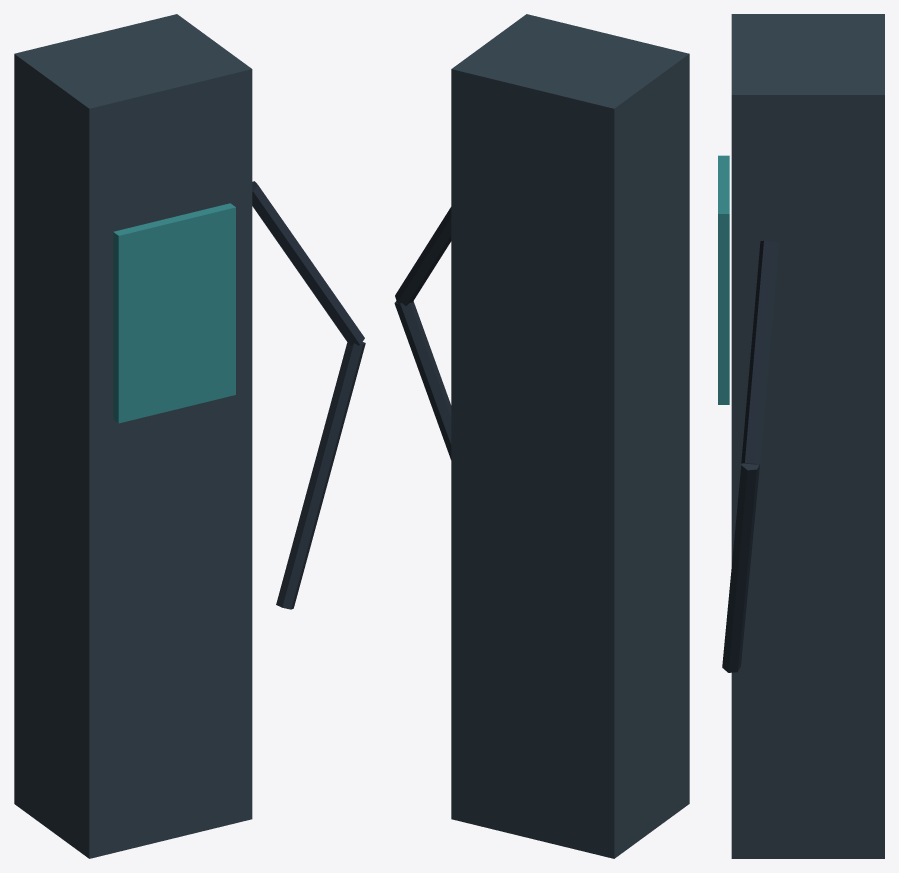
Rendered from EVCharger.fbx.
3 renders of one model, left to right at view 1: azimuth 30°, elevation 25°; view 2: azimuth 150°, elevation 25°; view 3: azimuth 270°, elevation 25°, orthographic.
Parts seen in each view (by area): view 1: EVCharger; view 2: EVCharger; view 3: EVCharger.
Part boxes in pixels (bbox=[...]): EVCharger: bbox=[14, 14, 365, 858]; EVCharger: bbox=[394, 14, 689, 858]; EVCharger: bbox=[718, 14, 884, 858].
Bounding box in the file's own units: 0.8724 × 2.2 × 0.435.
